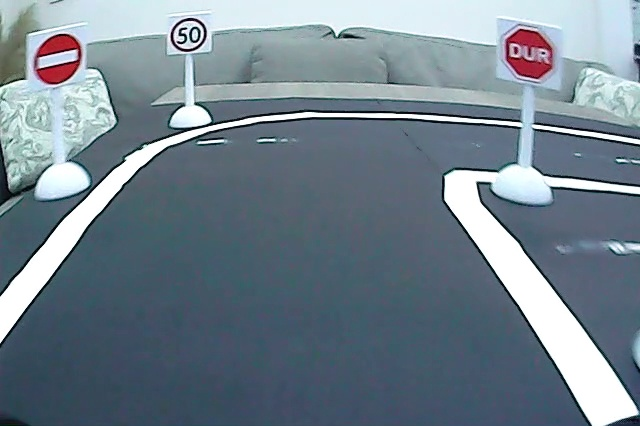do not enter: (32, 30, 85, 87)
speed limit 50: (172, 16, 209, 54)
stop sign: (496, 23, 558, 90)
